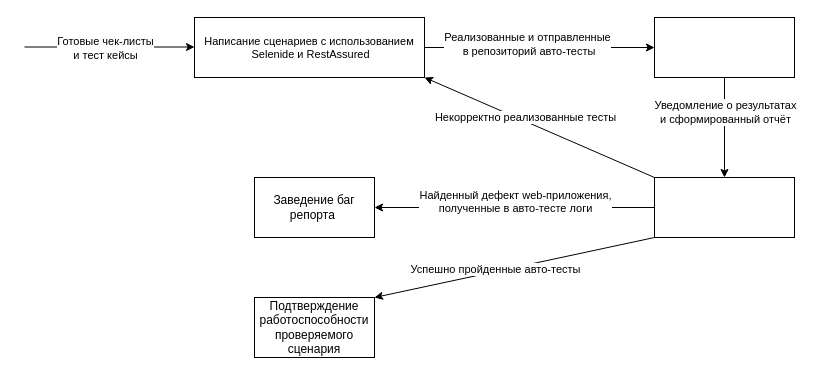
Some shapes in this 813 by 375 pixel diagram are drawn without their labels. Here are the shapes that lost their labels. From the top down, the centre of each, then its label:
At (x=724, y=47): "Запуск авто-тестов в CI/CD системе Jenkins".
At (x=724, y=207): "Разбор отчёта в интерфейсе Allure Report".
